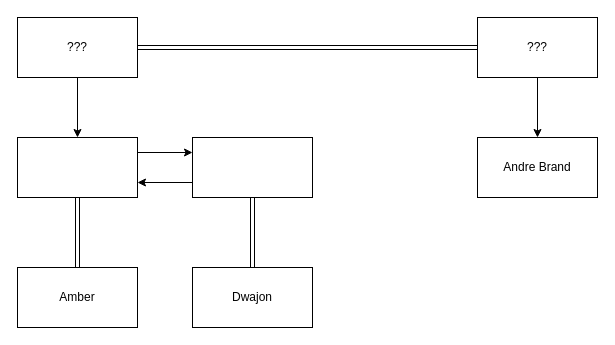
This 615x345 diagram has some shape labels left out. The shapes that lost their labels are listed below. From the top down, each one's centre as x and y in pixels, then its label:
[77,167]: Riswyn
[252,167]: Dagnal
